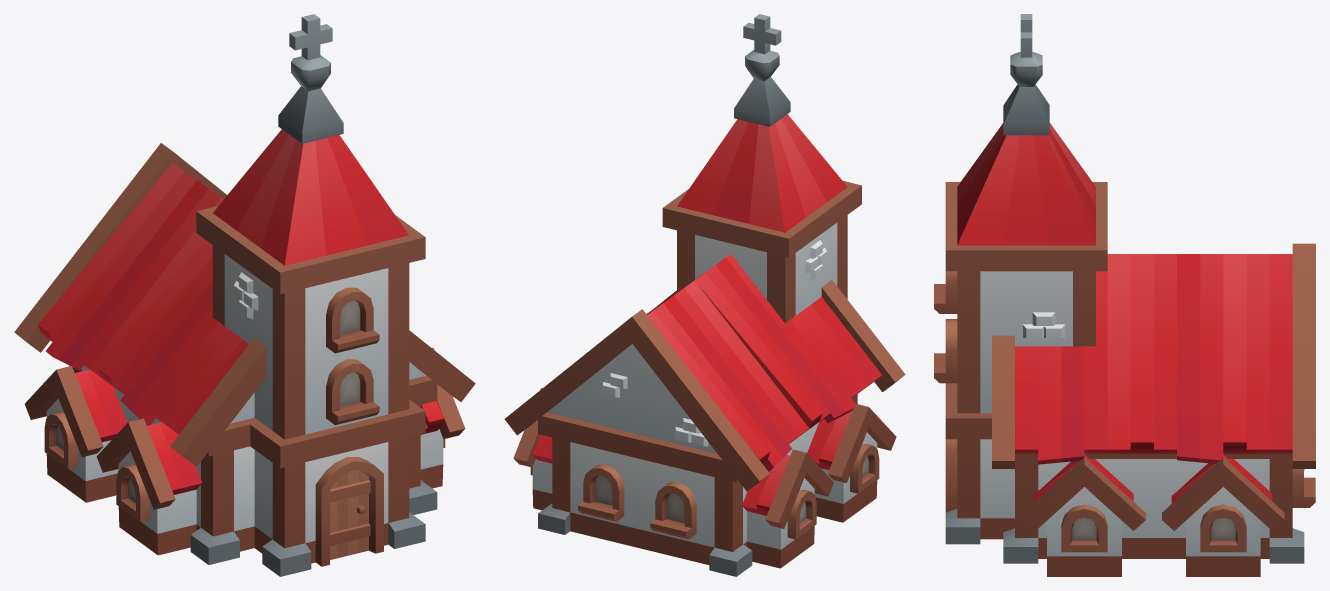
Rendered from building_church_red.glb.
3 renders of one model, left to right at view 1: azimuth 30°, elevation 25°; view 2: azimuth 150°, elevation 25°; view 3: azimuth 270°, elevation 25°, orthographic. The views are drawn at different scales.
Parts seen in each view (by area): view 1: building_church_red; view 2: building_church_red; view 3: building_church_red.
Part boxes in pixels (x1,y1,x2,y2): building_church_red: [14, 14, 475, 576]; building_church_red: [504, 14, 905, 576]; building_church_red: [934, 14, 1315, 576].
Bounding box in the file's own units: 1.03 × 1.65 × 1.16.
Materials: 1 (1 with a texture image).
